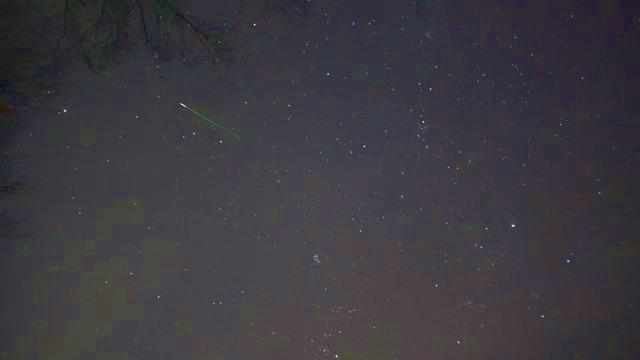meteorite: (163, 98, 250, 138)
